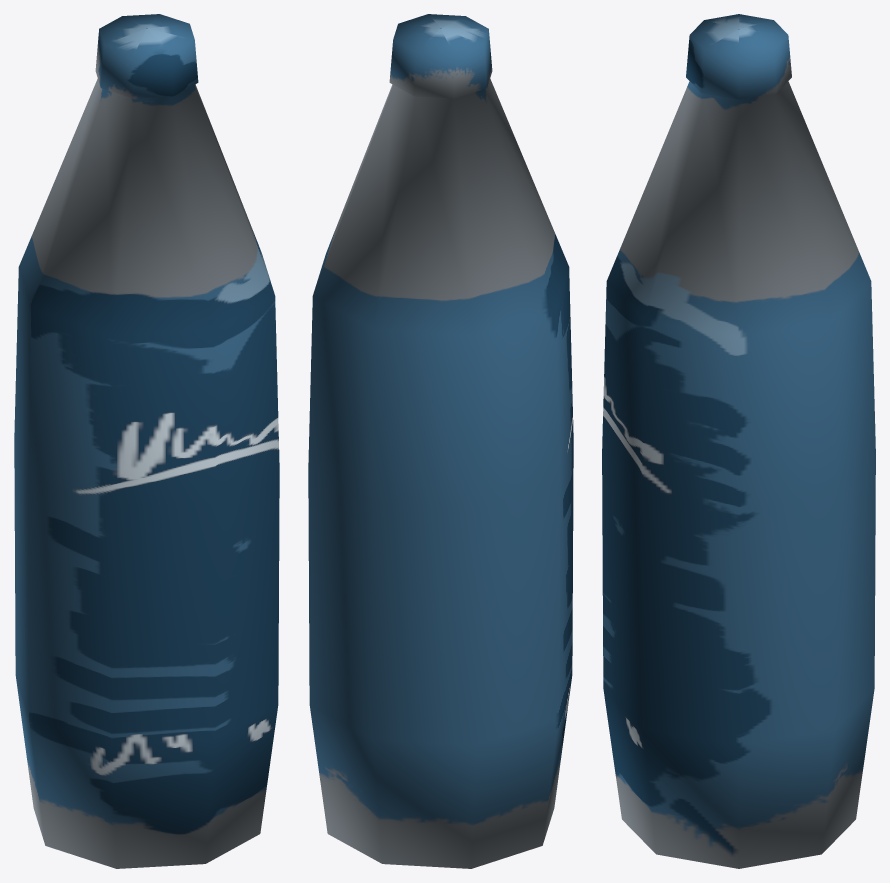
File: WasserF.fbx
3 views of the same model, side by side, from view 1: azimuth 30°, elevation 25°; view 2: azimuth 150°, elevation 25°; view 3: azimuth 270°, elevation 25° (orthographic).
Visible parts, largest first — view 1: Wasserflasche.001; view 2: Wasserflasche.001; view 3: Wasserflasche.001.
Boxes of the visible parts, <box> form: Wasserflasche.001: <box>14,14,279,868</box>; Wasserflasche.001: <box>308,14,573,868</box>; Wasserflasche.001: <box>602,14,875,868</box>.
Bounding box in the file's own units: 13.48 × 43.5 × 13.48.
